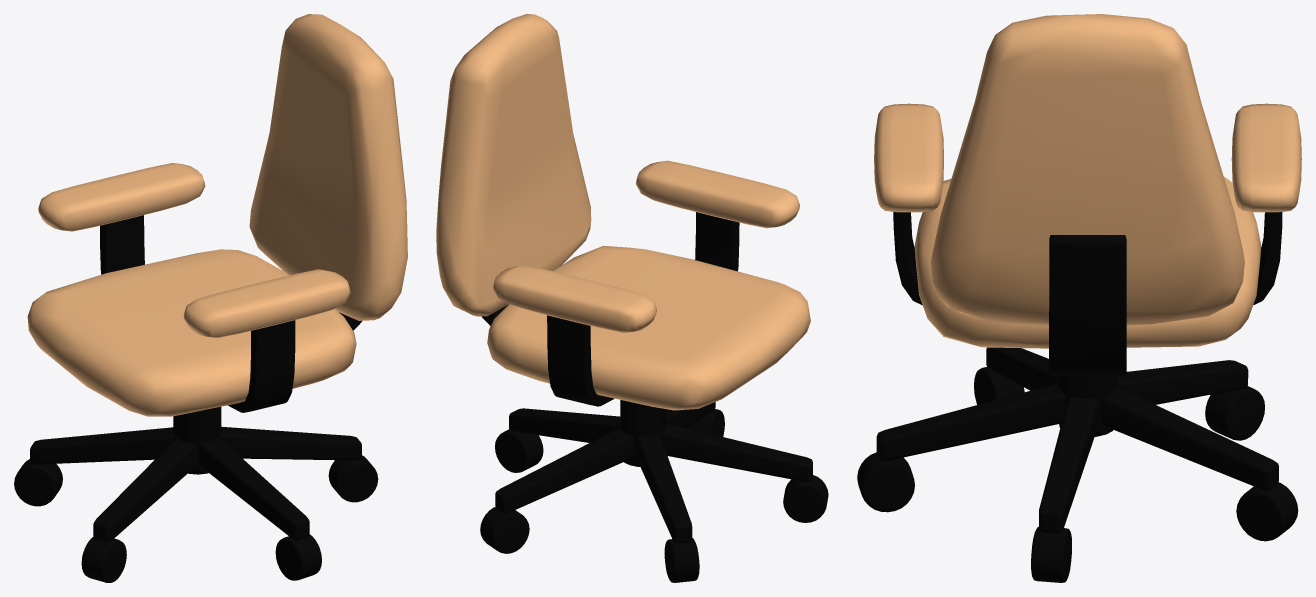
The model's file is office_chair_leather_beige.fbx.
The picture shows the model from 3 angles, left to right: view 1: azimuth 30°, elevation 25°; view 2: azimuth 150°, elevation 25°; view 3: azimuth 270°, elevation 25°; orthographic projection. The views are drawn at different scales.
Parts seen in each view (by area): view 1: office_chair_leather_beige; view 2: office_chair_leather_beige; view 3: office_chair_leather_beige.
Part boxes in pixels (x1=…): office_chair_leather_beige: x1=14, y1=14, x2=407, y2=582; office_chair_leather_beige: x1=436, y1=14, x2=828, y2=582; office_chair_leather_beige: x1=857, y1=14, x2=1301, y2=582.
Size of the model in its own units: 76.26 by 103 by 73.42.
Materials: 1 (1 with a texture image).
